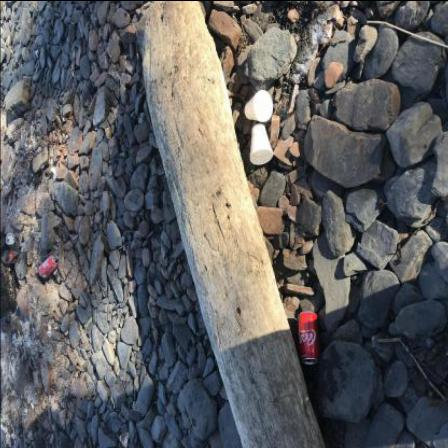Can: (298, 311, 320, 365), (40, 255, 59, 279), (3, 249, 22, 264), (7, 233, 18, 249)
Cup: (251, 124, 274, 166), (246, 91, 274, 123)
Pop tab: (54, 256, 58, 262)
Unlabeled litter: (51, 168, 57, 180)
